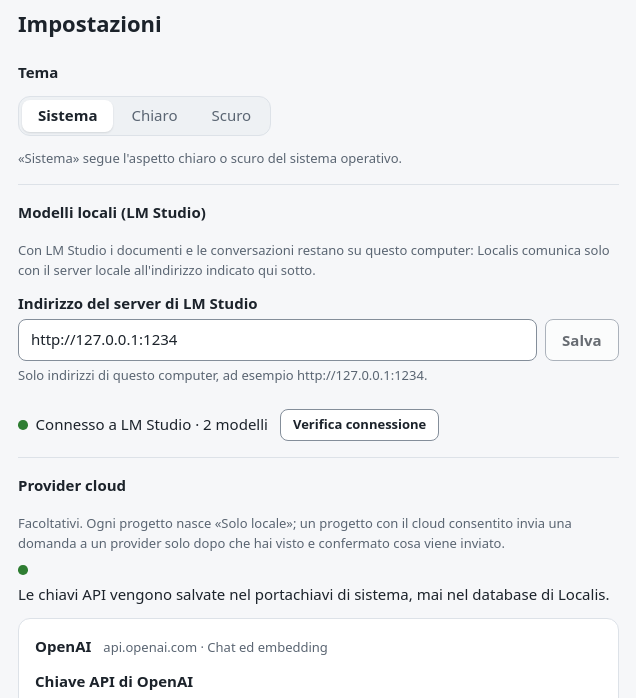
Test: Modelli locali (LM Studio) › shows the backend's URL validation error at the field and focuses it
The width and height of the screenshot is (636, 698).
Replace the text in the field labelled "Indirizzo del server di LM Studio" with "http://example.com:1234" at (278, 340), box [18,319,537,361]
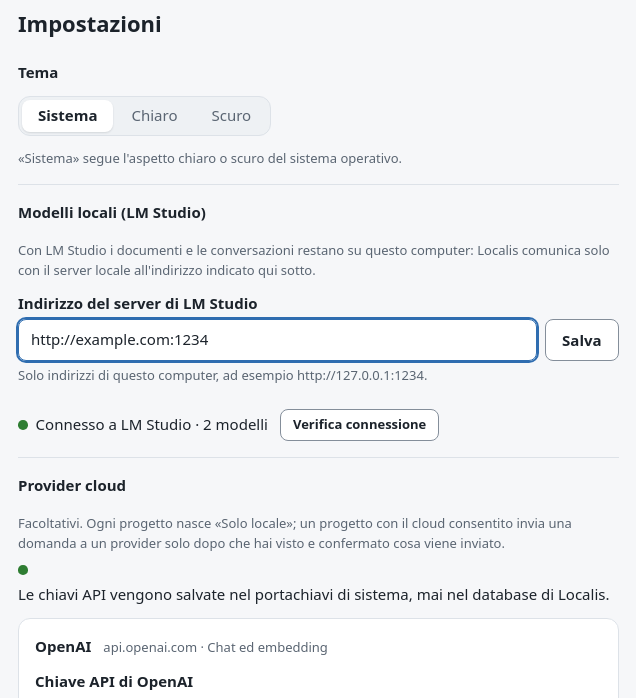
Click the 1st button "Salva".
click(582, 340)  # box [545,319,619,361]
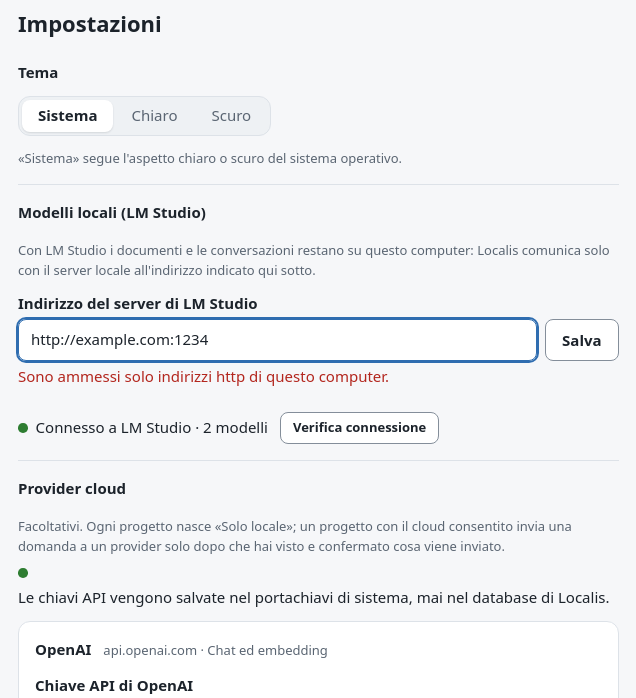
expect the text "Sono ammessi solo indirizzi http di questo computer." is shown: met, box [18,366,389,386]
